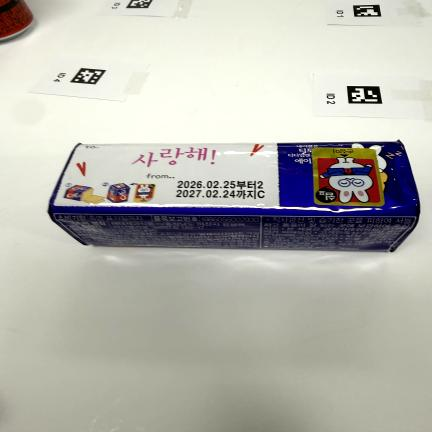cracker_ace: (49, 141, 419, 251)
